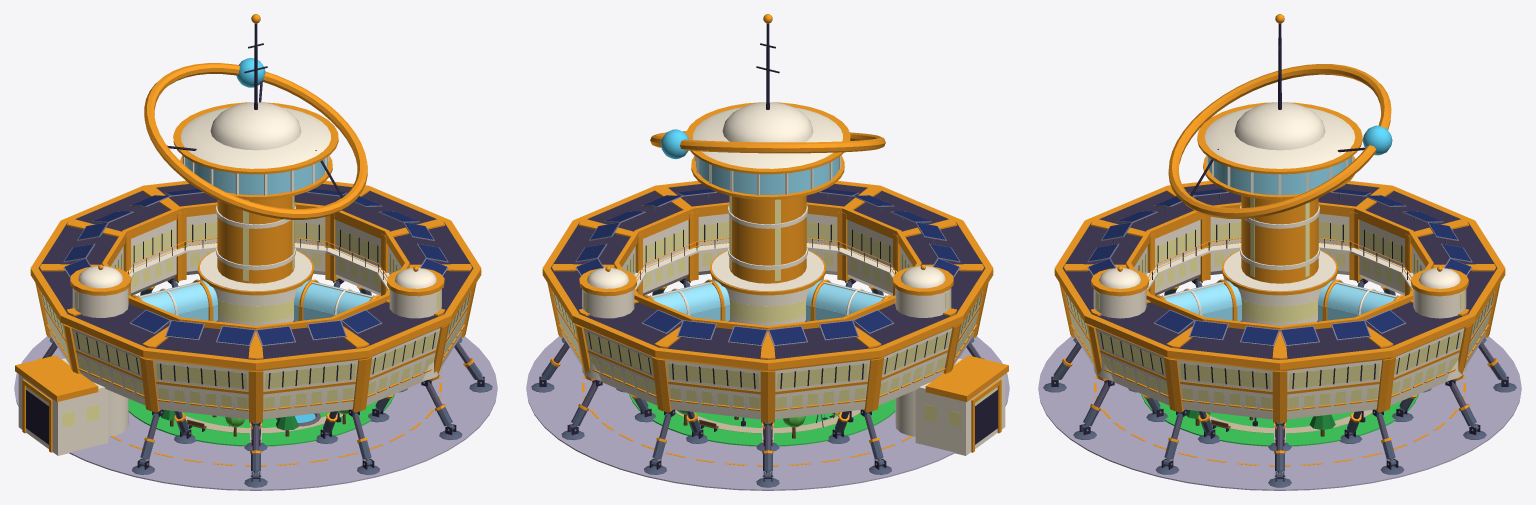
File: habitat.glb
3 views of the same model, side by side, from view 1: azimuth 30°, elevation 25°; view 2: azimuth 150°, elevation 25°; view 3: azimuth 270°, elevation 25° (orthographic).
Parts seen in each view (by area): view 1: habitat, habitat_trim_55, habitat_water_56; view 2: habitat, habitat_trim_55, habitat_water_56; view 3: habitat, habitat_trim_55, habitat_water_56.
Boxes of the visible parts, <box> form: habitat: <box>14,14,497,490</box>; habitat_trim_55: <box>144,63,367,219</box>; habitat_water_56: <box>236,58,265,87</box>; habitat: <box>526,14,1009,490</box>; habitat_trim_55: <box>650,131,885,153</box>; habitat_water_56: <box>660,129,689,159</box>; habitat: <box>1038,14,1521,490</box>; habitat_trim_55: <box>1168,64,1391,218</box>; habitat_water_56: <box>1362,125,1392,155</box>.
Bounding box in the file's own units: 56.4 × 47 × 55.
